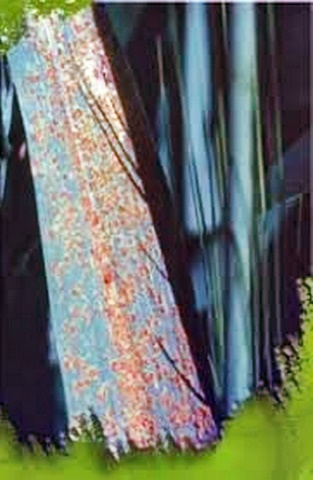Leaf Rust: (30, 74, 197, 411)
